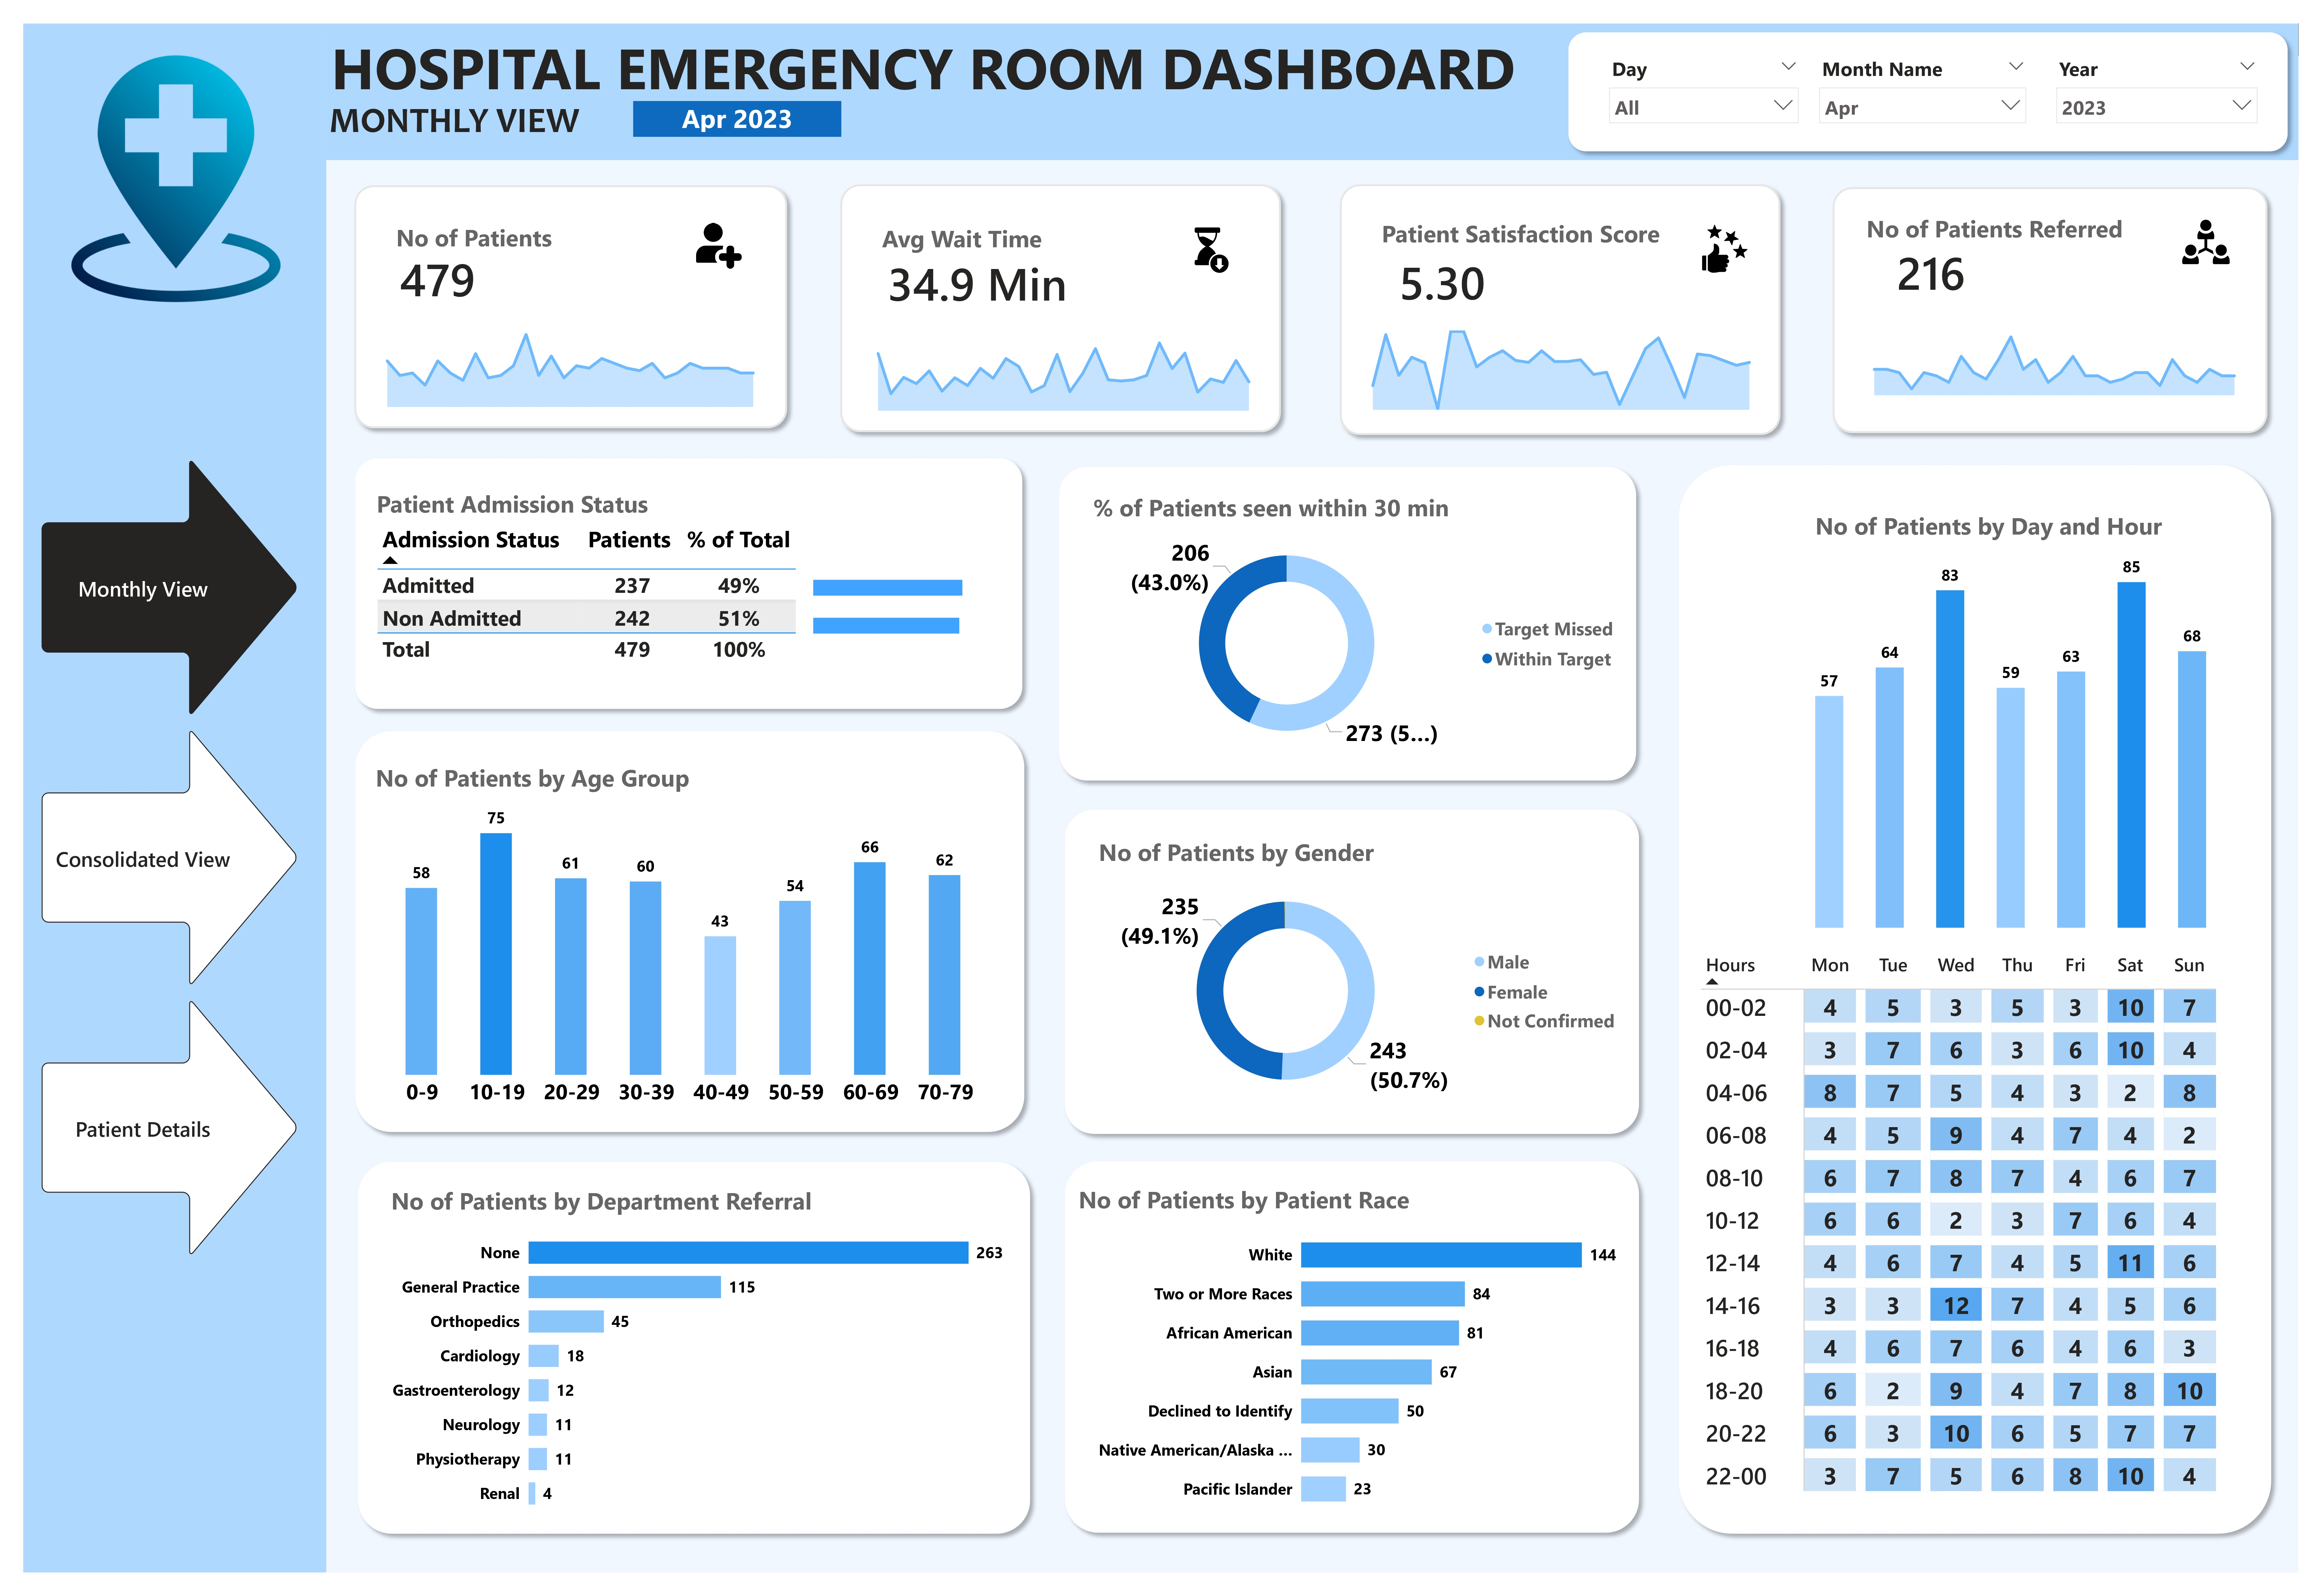

The dashboard page shown, as its layout file describes it:
{"tool":"powerbi","page":{"name":"Monthly View","canvas":[2350,1600],"ordinal":0},"visuals":[{"type":"shape","box":[0,0,312.5,1600.6],"z":0},{"type":"shape","box":[1587,0,760.9,141.3],"z":0,"group":"g4"},{"type":"shape","box":[834.7,156.8,472.8,274.5],"z":0,"group":"g8"},{"type":"shape","box":[1351.3,157.1,472.8,277.2],"z":0,"group":"g10"},{"type":"shape","box":[332.5,158.1,464.7,269],"z":0,"group":"g7"},{"type":"shape","box":[1860.3,160.2,467.4,271.7],"z":0,"group":"g12"},{"type":"shape","box":[333.6,439.6,706.5,277.2],"z":0,"group":"g13"},{"type":"group","id":"g1","title":"Group 7","box":[1700.8,447.4,630.4,1122.3],"z":0,"group":"g19"},{"type":"shape","box":[1700.8,447.4,630.4,1122.3],"z":0,"group":"g1"},{"type":"group","id":"g2","title":"Group 6","box":[1060.6,448.6,614.1,342.4],"z":0,"group":"g16"},{"type":"shape","box":[1060.6,448.6,614.1,342.4],"z":0,"group":"g2"},{"type":"shape","box":[333.9,722.3,709.2,432.1],"z":0,"group":"g14"},{"type":"group","id":"g3","title":"Group 6","box":[1066.5,802.9,611.4,353.3],"z":0,"group":"g17"},{"type":"shape","box":[1066.5,802.9,611.4,353.3],"z":0,"group":"g3"},{"type":"shape","box":[1067.5,1166.1,611.4,402.2],"z":0,"group":"g18"},{"type":"shape","box":[337,1167.2,712,402.2],"z":0,"group":"g15"},{"type":"shape","box":[312.5,0,2038.1,141.3],"z":1000},{"type":"card","title":"Patient Satisfaction Score","fields":{"Values":["Key Measures.No of Patients Referred"]},"box":[1916.6,227.6,108.7,57.1],"z":1000,"group":"g12"},{"type":"card","title":"No of Patients","fields":{"Values":["Key Measures.No of Patients"]},"box":[363.7,231.2,127.7,62.5],"z":1000,"group":"g7"},{"type":"card","title":"Patient Satisfaction Score","fields":{"Values":["Key Measures.Satisfaction Score"]},"box":[1402,232.9,127.7,65.2],"z":1000,"group":"g10"},{"type":"card","title":"Avg Wait Time","fields":{"Values":["Key Measures.Avg Wait Time1"]},"box":[884.4,233.3,201.1,67.9],"z":1000,"group":"g8"},{"type":"donutChart","title":"% of Patients seen within 30 min","fields":{"Category":["Hospital ER_Data.Wait Time Status under 30 min"],"Y":["Key Measures.No of Patients"]},"box":[1099.8,482.3,557.1,282.6],"z":1000,"group":"g16"},{"type":"donutChart","title":"No of Patients by Gender","fields":{"Y":["Key Measures.No of Patients"],"Category":["Hospital ER_Data.Patient Gender"]},"box":[1105.9,838.6,551.6,288],"z":1000,"group":"g17"},{"type":"textbox","box":[312.5,0,1244.6,95.1],"z":2000},{"type":"areaChart","fields":{"Category":["Date Table.Date"],"Y":["Key Measures.Satisfaction Score"]},"box":[1379.5,303.6,418.5,100.5],"z":2000,"group":"g10"},{"type":"areaChart","fields":{"Category":["Date Table.Date"],"Y":["Key Measures.No of Patients Referred"]},"box":[1897.6,303.7,402.2,87],"z":2000,"group":"g12"},{"type":"areaChart","fields":{"Y":["CountNonNull(Hospital ER_Data.Patient Id)"],"Category":["Date Table.Date"]},"box":[361,307.3,407.6,95.1],"z":2000,"group":"g7"},{"type":"areaChart","fields":{"Category":["Date Table.Date"],"Y":["Avg(Hospital ER_Data.Patient Waittime)"]},"box":[868.1,309.4,413,95.1],"z":2000,"group":"g8"},{"type":"textbox","box":[311.5,71.3,282.9,69],"z":3000},{"type":"group","id":"g4","title":"Group 1","box":[1587,0,762,139.8],"z":4000,"group":"g21"},{"type":"card","fields":{"Values":["Min(Date Table.Month,Year)"]},"box":[630,80.4,215.2,36.3],"z":4000},{"type":"group","id":"g5","title":"Group 3","box":[332.5,158.1,464.7,269],"z":5000},{"type":"slicer","fields":{"Values":["Date Table.Month Name"]},"box":[1845.2,27.2,233.7,89.7],"z":6000,"group":"g4"},{"type":"group","id":"g6","title":"Group 4","box":[834.7,156.8,472.8,274.5],"z":6000},{"type":"group","id":"g7","title":"Group 2","box":[332.5,158.1,464.7,269],"z":6000,"group":"g5"},{"type":"slicer","fields":{"Values":["Date Table.Year"]},"box":[2089.7,27.2,228.3,89.7],"z":7000,"group":"g4"},{"type":"group","id":"g8","title":"Group 2","box":[834.7,156.8,472.8,274.5],"z":7000,"group":"g6"},{"type":"group","id":"g9","title":"Group 5","box":[1351.3,157.1,472.8,277.2],"z":7000},{"type":"group","id":"g10","title":"Group 2","box":[1351.3,157.1,472.8,277.2],"z":8000,"group":"g9"},{"type":"group","id":"g11","title":"Group 5","box":[1860.3,160.2,467.4,271.7],"z":8000},{"type":"group","id":"g12","title":"Group 2","box":[1860.3,160.2,467.4,271.7],"z":8000,"group":"g11"},{"type":"group","id":"g13","title":"Group 6","box":[333.6,439.6,706.5,277.2],"z":9000},{"type":"textbox","box":[1899.5,190.2,285.3,57.1],"z":10000,"group":"g11"},{"type":"textbox","box":[1398.6,194.9,315.2,57.1],"z":10000,"group":"g9"},{"type":"group","id":"g14","title":"Group 7","box":[333.9,722.3,709.2,432.1],"z":10000},{"type":"textbox","box":[380,198.6,195.7,43.5],"z":11000,"group":"g5"},{"type":"barChart","title":"Patient Admission Status","fields":{"Category":["Hospital ER_Data.Patient Admission Status"],"Y":["CountNonNull(Hospital ER_Data.Patient Id)"]},"box":[810.3,541.2,201.1,116.8],"z":11000,"group":"g13"},{"type":"group","id":"g15","title":"Group 7","box":[337,1167.2,712,402.2],"z":11000},{"type":"textbox","box":[881.4,199.3,197,44.1],"z":12000,"group":"g6"},{"type":"group","id":"g16","title":"Group 8","box":[1060.6,448.6,614.1,342.4],"z":12000},{"type":"tableEx","title":"Patient Admission Status","fields":{"Values":["Hospital ER_Data.Patient Admission Status","Key Measures.No of Patients","Divide(Key Measures.No of Patients, ScopedEval(Key Measures.No of Patients, []))"]},"box":[359.2,478.7,451.1,198.4],"z":12000,"group":"g13"},{"type":"columnChart","title":"No of Patients by Age Group","fields":{"Category":["Hospital ER_Data.Age Group"],"Y":["Key Measures.No of Patients"]},"box":[358.7,762.3,646.7,366.8],"z":12000,"group":"g14"},{"type":"barChart","title":"No of Patients by Patient Race","fields":{"Y":["Key Measures.No of Patients"],"Category":["Hospital ER_Data.Patient Race"]},"box":[1085.2,1198.3,573.4,350.5],"z":12000,"group":"g18"},{"type":"barChart","title":"No of Patients by Department Referral","fields":{"Y":["Key Measures.No of Patients"],"Category":["Hospital ER_Data.Department Referral"]},"box":[375,1199.4,644,350.5],"z":12000,"group":"g15"},{"type":"group","id":"g17","title":"Group 8","box":[1066.5,802.9,611.4,353.3],"z":13000},{"type":"group","id":"g18","title":"Group 7","box":[1067.5,1166.1,611.4,402.2],"z":14000},{"type":"group","id":"g19","title":"Group 9","box":[1700.8,447.4,630.4,1122.3],"z":15000},{"type":"image","box":[19,27.2,277.2,266.3],"z":16000},{"type":"image","box":[668.5,201.1,100.5,57.1],"z":17000},{"type":"group","id":"g20","title":"Group 8","box":[1846.3,502.3,415.8,437.5],"z":17000,"group":"g19"},{"type":"columnChart","title":"No of Patients by Day and Hour","fields":{"Category":["Date Table.Weekday Name"],"Y":["Key Measures.No of Patients"]},"box":[1846.3,502.3,415.8,437.5],"z":17001,"group":"g20"},{"type":"image","box":[1173.9,203.8,106,59.8],"z":18000},{"type":"pivotTable","fields":{"Rows":["Hospital ER_Data.Admission time Interval"],"Columns":["Date Table.Weekday Name"],"Values":["Key Measures.No of Patients"]},"box":[1727.8,953.7,565.2,592.4],"z":18000,"group":"g19"},{"type":"image","box":[1714.7,201.1,84.2,62.5],"z":19000},{"type":"image","box":[2214.7,195.7,78.8,59.8],"z":20000},{"type":"group","id":"g21","title":"Group 10","box":[1587,0,763.6,138.6],"z":21000},{"type":"pageNavigator","box":[19,448.4,266.3,828.8],"z":22000},{"type":"slicer","fields":{"Values":["Date Table.Day"]},"box":[1627.6,27.1,216.4,90.2],"z":22500,"group":"g21"}]}

Visuals, with their boxes on the page's 2350x1600 design canvas (x1, y1, x2, y2). These are canvas units, not pixel positions in the 2322x1596 screenshot, which may show the page scaled, cropped or inside an application window:
shape: l=0, t=0, r=312, b=1601
shape: l=1587, t=0, r=2348, b=141
shape: l=835, t=157, r=1308, b=431
shape: l=1351, t=157, r=1824, b=434
shape: l=332, t=158, r=797, b=427
shape: l=1860, t=160, r=2328, b=432
shape: l=334, t=440, r=1040, b=717
"Group 7" group: l=1701, t=447, r=2331, b=1570
shape: l=1701, t=447, r=2331, b=1570
"Group 6" group: l=1061, t=449, r=1675, b=791
shape: l=1061, t=449, r=1675, b=791
shape: l=334, t=722, r=1043, b=1154
"Group 6" group: l=1066, t=803, r=1678, b=1156
shape: l=1066, t=803, r=1678, b=1156
shape: l=1068, t=1166, r=1679, b=1568
shape: l=337, t=1167, r=1049, b=1569
shape: l=312, t=0, r=2351, b=141
"Patient Satisfaction Score" card: l=1917, t=228, r=2025, b=285
"No of Patients" card: l=364, t=231, r=491, b=294
"Patient Satisfaction Score" card: l=1402, t=233, r=1530, b=298
"Avg Wait Time" card: l=884, t=233, r=1086, b=301
"% of Patients seen within 30 min" donutChart: l=1100, t=482, r=1657, b=765
"No of Patients by Gender" donutChart: l=1106, t=839, r=1658, b=1127
textbox: l=312, t=0, r=1557, b=95
areaChart - Date Table.Date x Key Measures.Satisfaction Score: l=1380, t=304, r=1798, b=404
areaChart - Date Table.Date x Key Measures.No of Patients Referred: l=1898, t=304, r=2300, b=391
areaChart - CountNonNull(Hospital ER_Data.Patient Id) x Date Table.Date: l=361, t=307, r=769, b=402
areaChart - Date Table.Date x Avg(Hospital ER_Data.Patient Waittime): l=868, t=309, r=1281, b=404
textbox: l=312, t=71, r=594, b=140
"Group 1" group: l=1587, t=0, r=2349, b=140
card - Min(Date Table.Month,Year): l=630, t=80, r=845, b=117
"Group 3" group: l=332, t=158, r=797, b=427
slicer - Date Table.Month Name: l=1845, t=27, r=2079, b=117
"Group 4" group: l=835, t=157, r=1308, b=431
"Group 2" group: l=332, t=158, r=797, b=427
slicer - Date Table.Year: l=2090, t=27, r=2318, b=117
"Group 2" group: l=835, t=157, r=1308, b=431
"Group 5" group: l=1351, t=157, r=1824, b=434
"Group 2" group: l=1351, t=157, r=1824, b=434
"Group 5" group: l=1860, t=160, r=2328, b=432
"Group 2" group: l=1860, t=160, r=2328, b=432
"Group 6" group: l=334, t=440, r=1040, b=717
textbox: l=1900, t=190, r=2185, b=247
textbox: l=1399, t=195, r=1714, b=252
"Group 7" group: l=334, t=722, r=1043, b=1154
textbox: l=380, t=199, r=576, b=242
"Patient Admission Status" barChart: l=810, t=541, r=1011, b=658
"Group 7" group: l=337, t=1167, r=1049, b=1569
textbox: l=881, t=199, r=1078, b=243
"Group 8" group: l=1061, t=449, r=1675, b=791
"Patient Admission Status" tableEx: l=359, t=479, r=810, b=677
"No of Patients by Age Group" columnChart: l=359, t=762, r=1005, b=1129
"No of Patients by Patient Race" barChart: l=1085, t=1198, r=1659, b=1549
"No of Patients by Department Referral" barChart: l=375, t=1199, r=1019, b=1550
"Group 8" group: l=1066, t=803, r=1678, b=1156
"Group 7" group: l=1068, t=1166, r=1679, b=1568
"Group 9" group: l=1701, t=447, r=2331, b=1570
image: l=19, t=27, r=296, b=294
image: l=668, t=201, r=769, b=258
"Group 8" group: l=1846, t=502, r=2262, b=940
"No of Patients by Day and Hour" columnChart: l=1846, t=502, r=2262, b=940
image: l=1174, t=204, r=1280, b=264
pivotTable - Hospital ER_Data.Admission time Interval x Date Table.Weekday Name: l=1728, t=954, r=2293, b=1546
image: l=1715, t=201, r=1799, b=264
image: l=2215, t=196, r=2294, b=256
"Group 10" group: l=1587, t=0, r=2351, b=139
pageNavigator: l=19, t=448, r=285, b=1277
slicer - Date Table.Day: l=1628, t=27, r=1844, b=117
